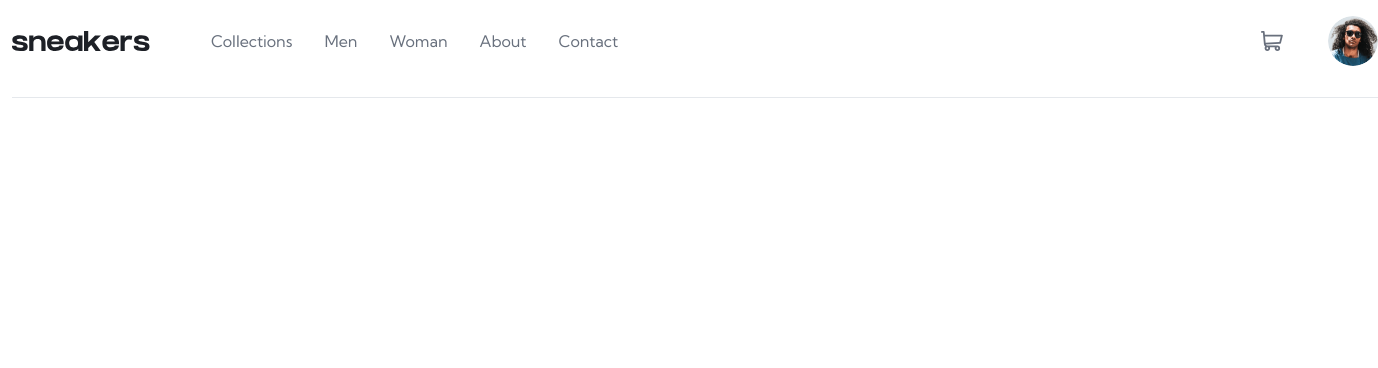
VNavigationBat.vue › Cart › When click cart icon, should show cart, when again click icon, should close cart
Click the element with class "navigation-bar__cart-icon-wrapper" at (1272, 41), box [1261,31,1283,51]
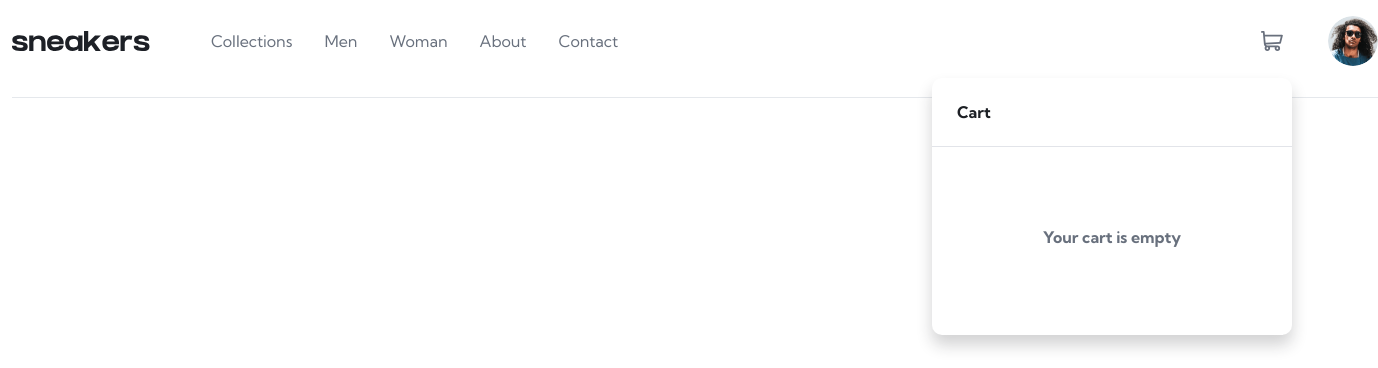
Expected: the element showing "Cart Your cart is empty" is shown, [932,78,1292,335]
